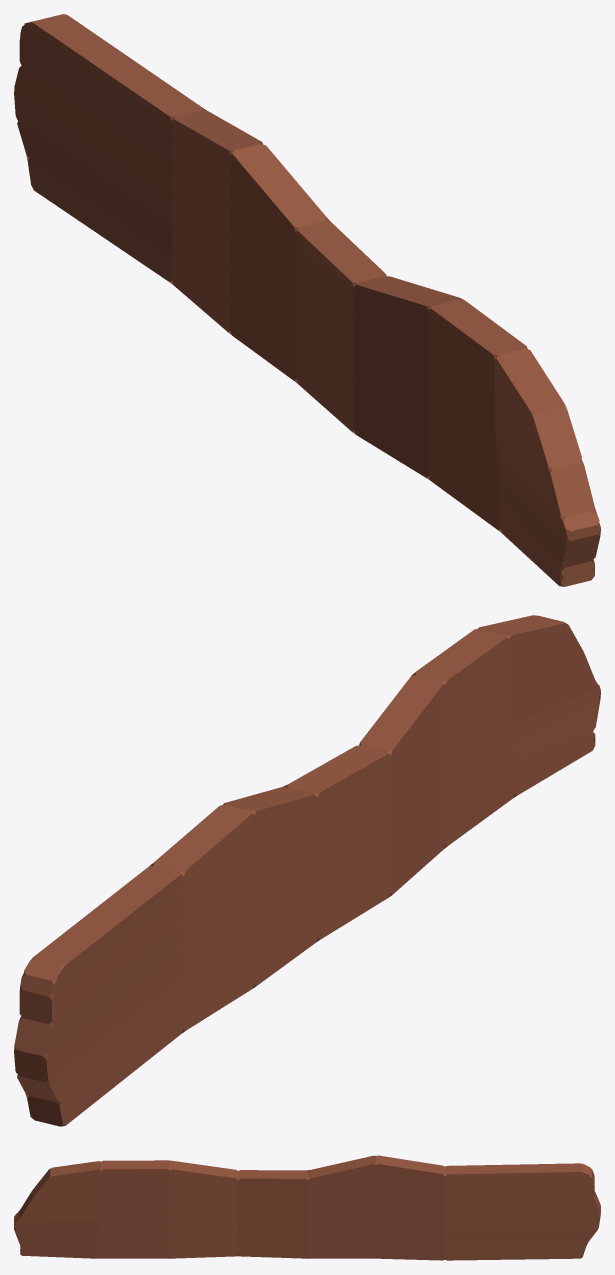
File: wall1.fbx
The picture shows the model from 3 angles, top to bottom: view 1: azimuth 30°, elevation 25°; view 2: azimuth 150°, elevation 25°; view 3: azimuth 270°, elevation 25°; orthographic projection. The views are drawn at different scales.
Visible parts, largest first — view 1: Cube; view 2: Cube; view 3: Cube.
Boxes of the visible parts, x1,y1,x2,y2 form: Cube: (14,14,600,586); Cube: (14,615,600,1126); Cube: (14,1155,600,1260).
Bounding box in the file's own units: 116 × 381 × 2135.
